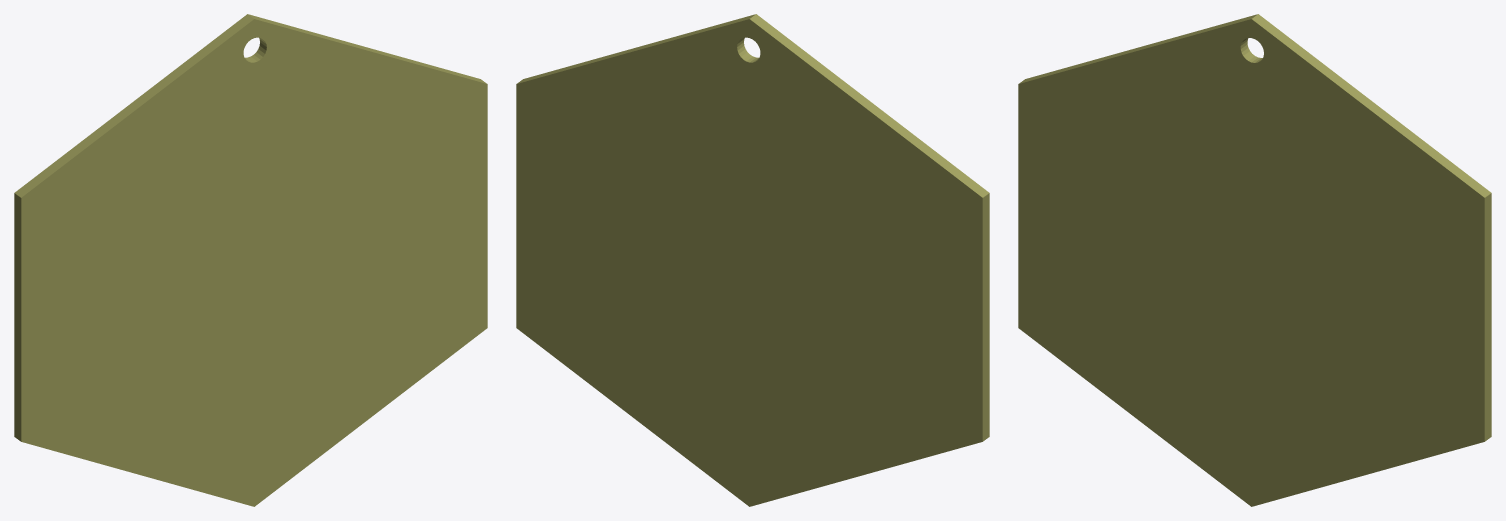
Rendered from OBJ_PCB_steph_hacking_grad_pcb.obj.
3 renders of one model, left to right at view 1: azimuth 30°, elevation 25°; view 2: azimuth 150°, elevation 25°; view 3: azimuth 330°, elevation 25°, orthographic.
Size of the model in its own units: 392 by 392 by 10.
